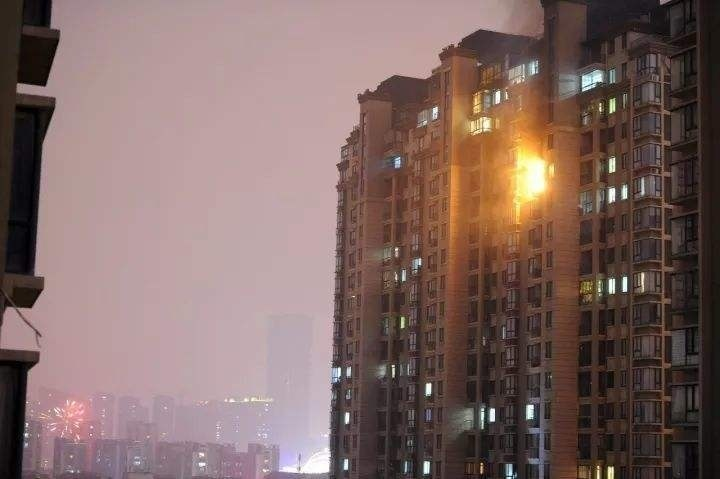fire: (510, 147, 548, 203)
